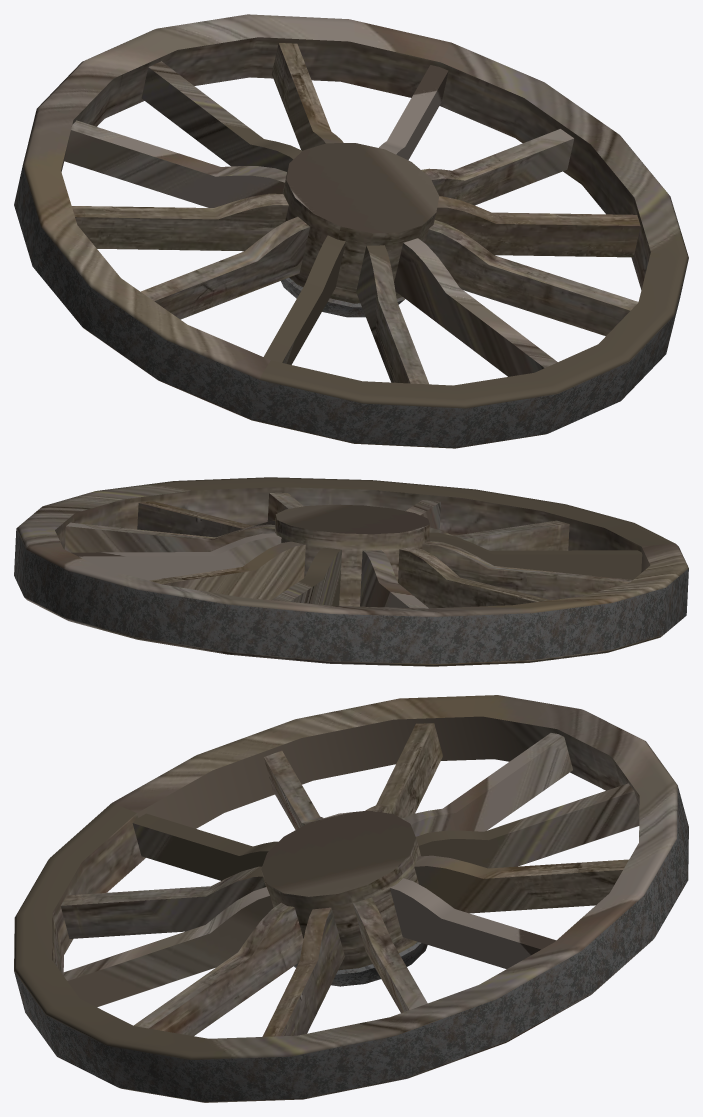
File: Wooden_Cart_Wheel.glb
The picture shows the model from 3 angles, top to bottom: view 1: azimuth 30°, elevation 25°; view 2: azimuth 150°, elevation 25°; view 3: azimuth 270°, elevation 25°; orthographic projection. The views are drawn at different scales.
Visible parts, largest first — view 1: SM_Wooden_Cart_Wheel; view 2: SM_Wooden_Cart_Wheel; view 3: SM_Wooden_Cart_Wheel.
Boxes of the visible parts, x1,y1,x2,y2 form: SM_Wooden_Cart_Wheel: [14, 14, 688, 448]; SM_Wooden_Cart_Wheel: [14, 477, 688, 666]; SM_Wooden_Cart_Wheel: [14, 695, 688, 1102].
Bounding box in the file's own units: 1.59 × 0.5015 × 1.56.
2 materials, 2 textured.
